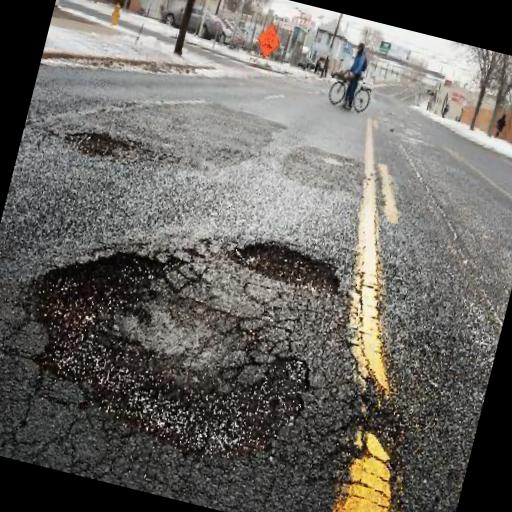pothole: (0, 217, 338, 481), (224, 228, 352, 298), (63, 120, 151, 170)
